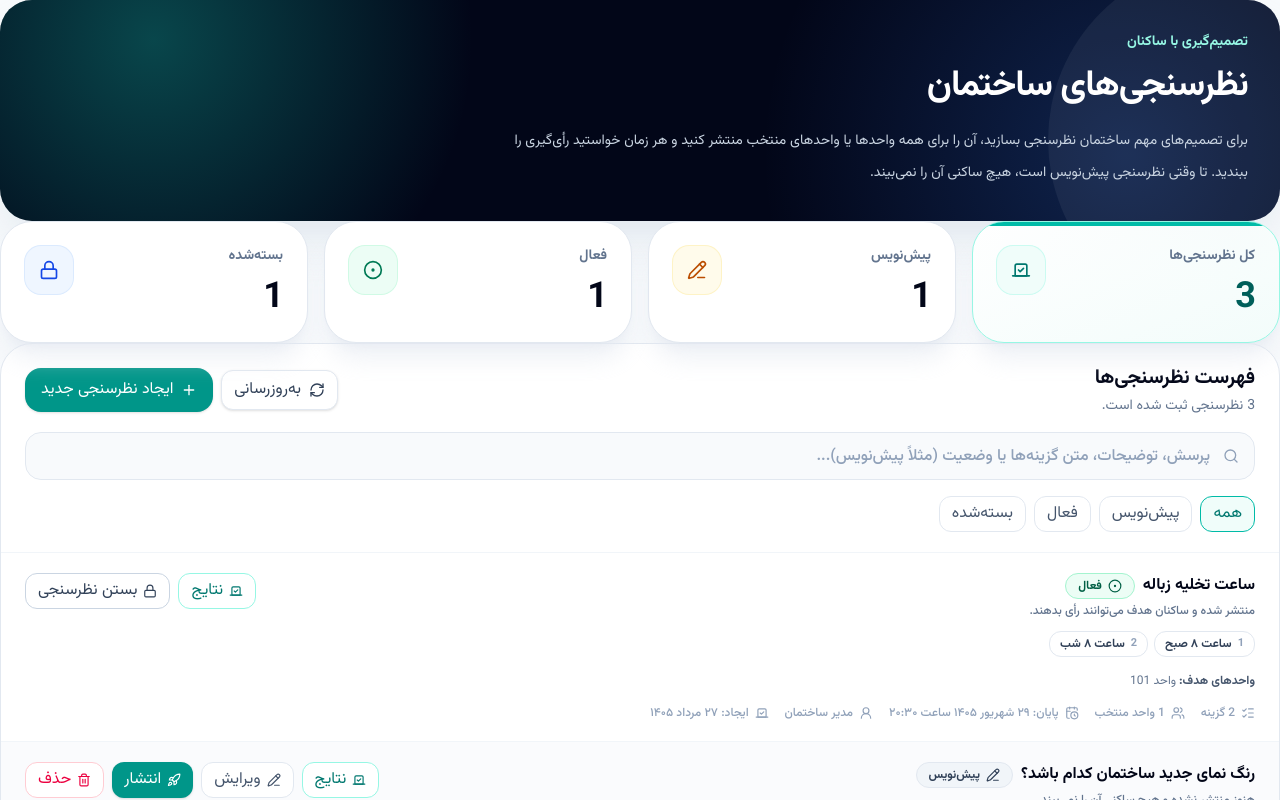
Scenario: PollsSection › adds a newly created poll to the top of the list
Expected: the heading "رنگ نمای جدید ساختمان کدام باشد؟" is shown, x1=1021 y1=763 x2=1255 y2=787
Step 1. Click the button "ایجاد نظرسنجی جدید" → (119, 390), box x1=25 y1=368 x2=213 y2=412
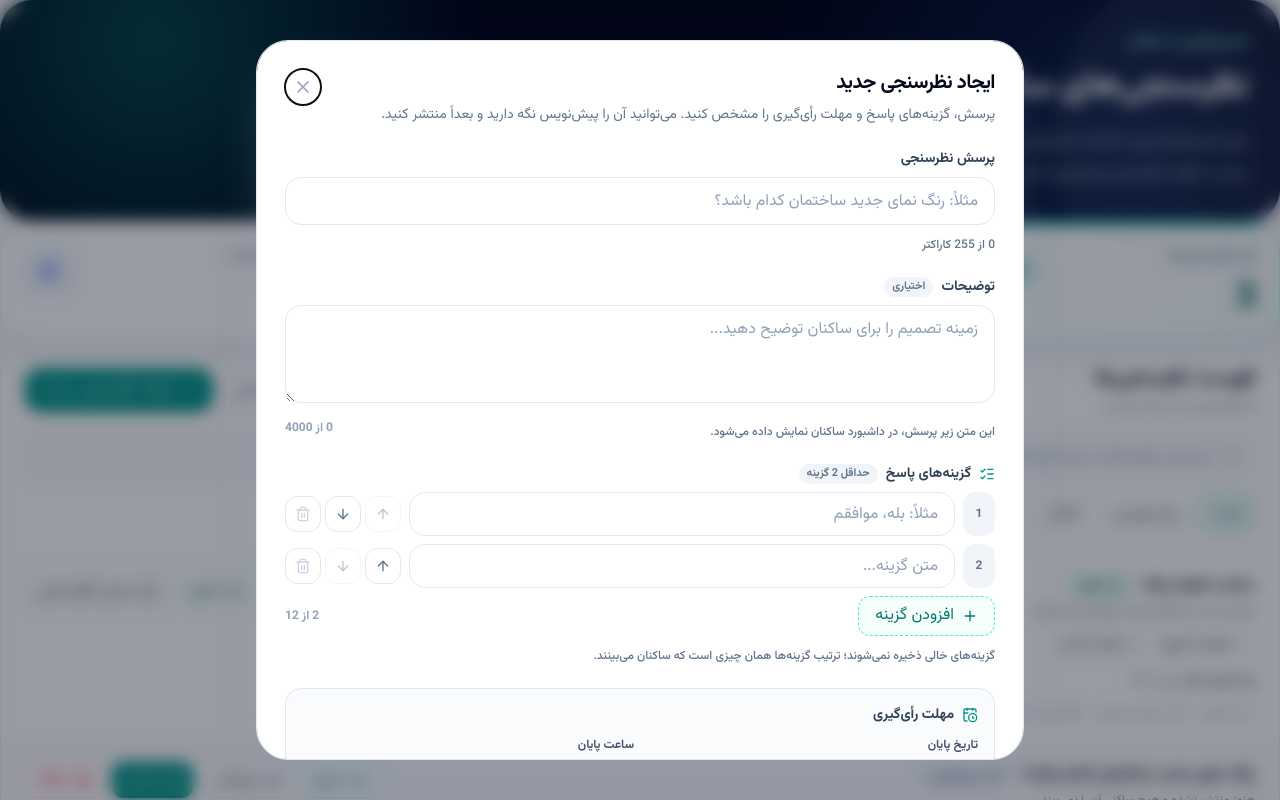
Step 2. Type "کدام روز برای جلسه ساختمان مناسب است؟" into the field labelled "پرسش نظرسنجی 0 از 255 کاراکتر" → (640, 201), box x1=285 y1=177 x2=995 y2=225
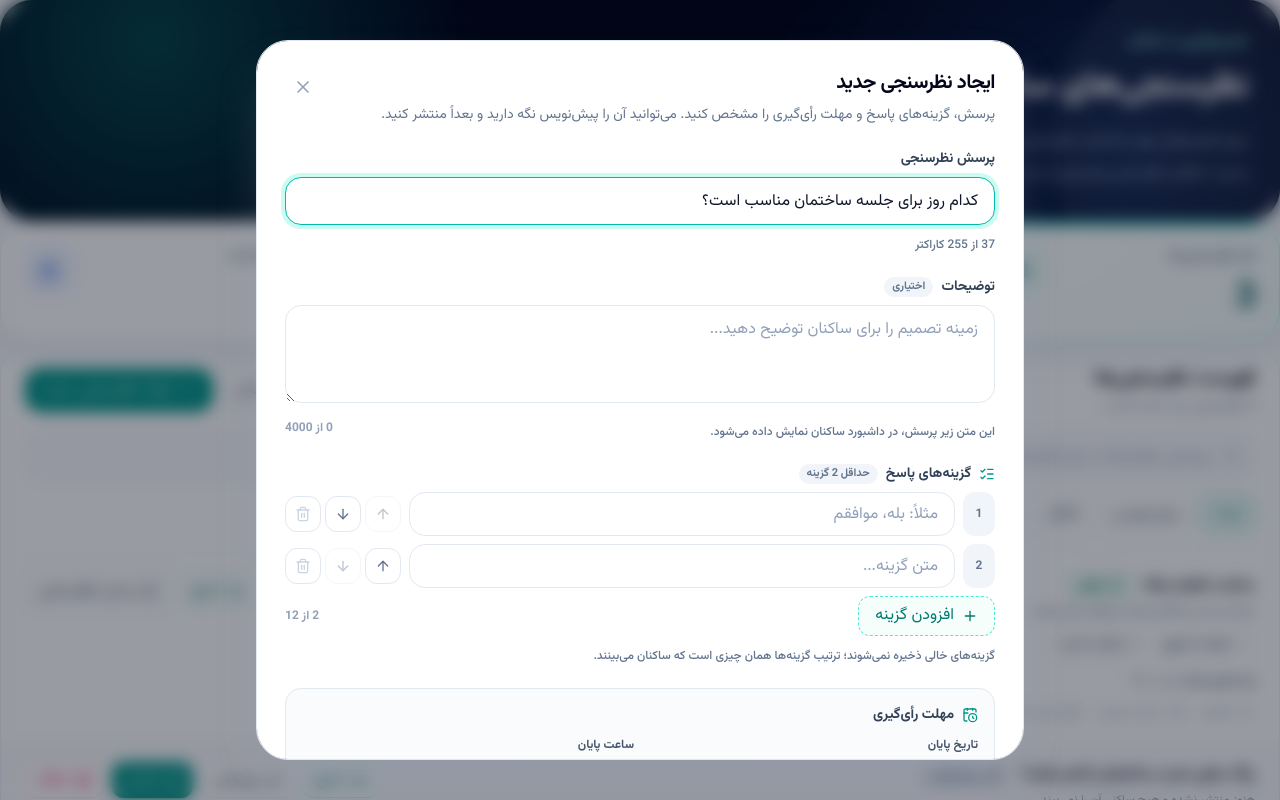
Step 3. Type "شنبه" into the field named "گزینه 1" → (682, 514), box x1=409 y1=492 x2=955 y2=536
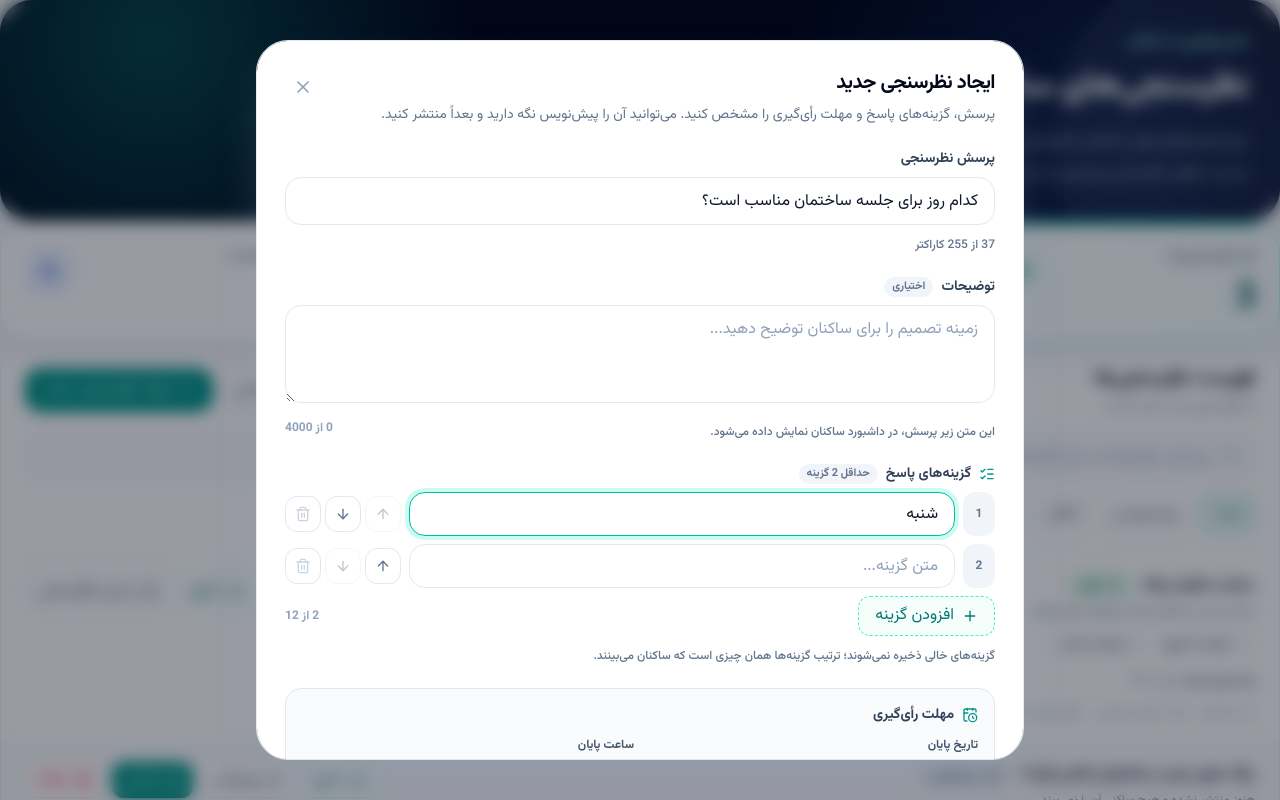
Step 4. Type "یکشنبه" into the field named "گزینه 2" → (682, 566), box x1=409 y1=544 x2=955 y2=588
(page scrolled)
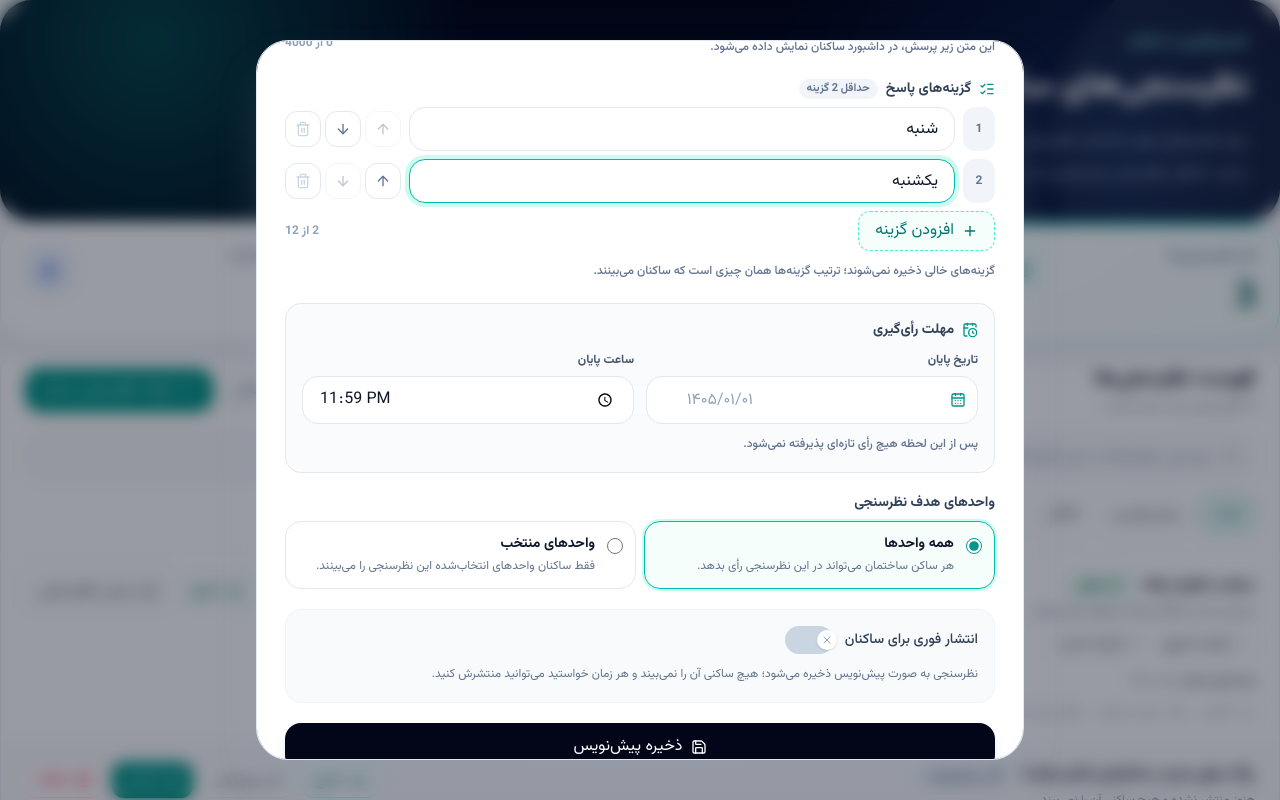
Step 5. Type "1405/06/05" into the field labelled "تاریخ پایان" → (812, 400), box x1=646 y1=376 x2=978 y2=424
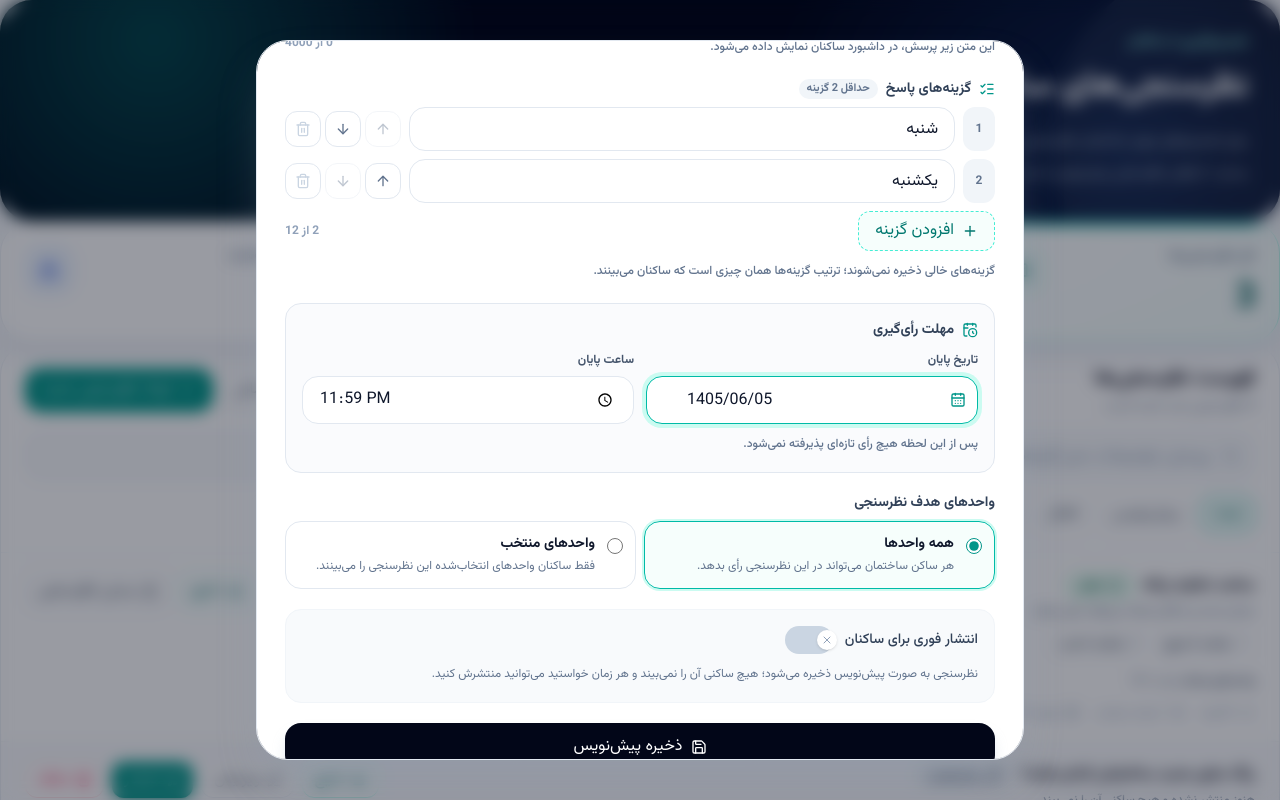
Step 6. Click the button "ذخیره پیش‌نویس" → (640, 747), box x1=285 y1=723 x2=995 y2=771
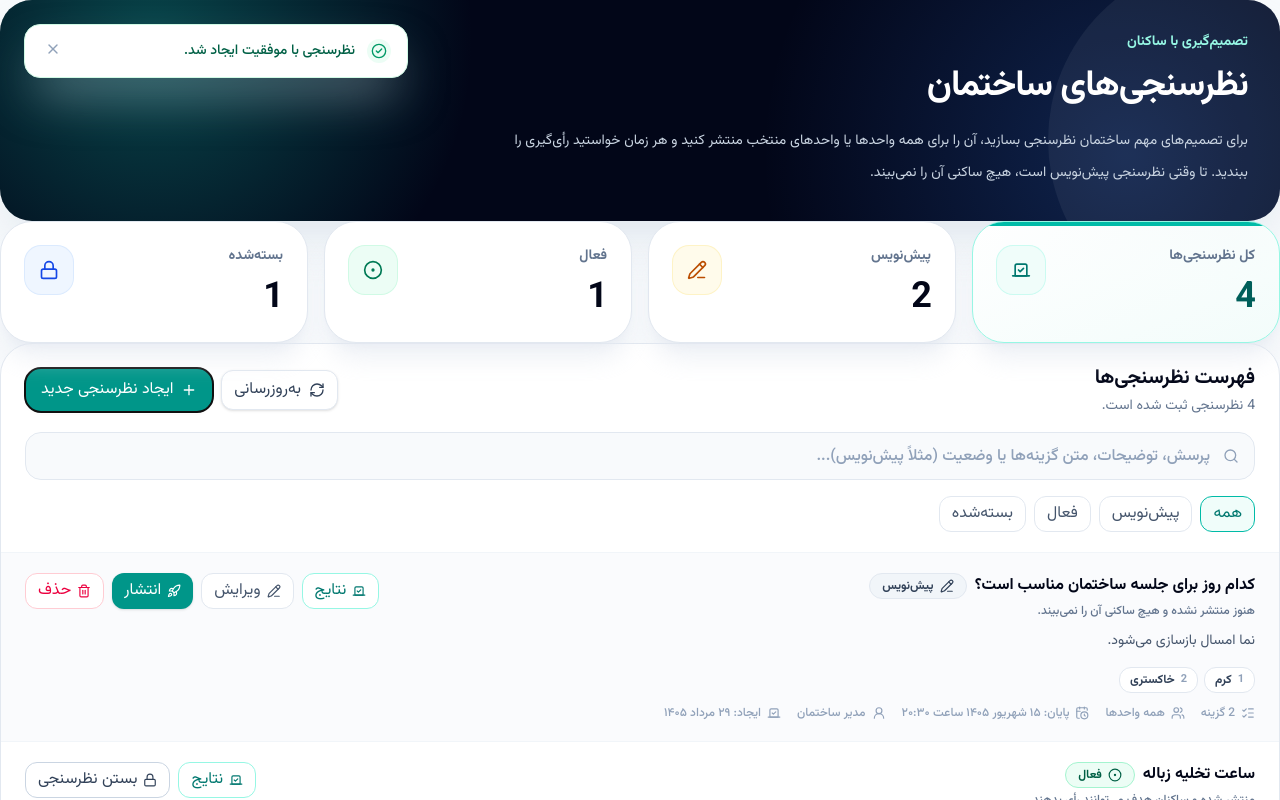
Result: the text "نظرسنجی با موفقیت ایجاد شد." is shown at x1=184 y1=40 x2=355 y2=62
Result: the heading "کدام روز برای جلسه ساختمان مناسب است؟" is shown at x1=975 y1=574 x2=1255 y2=598
